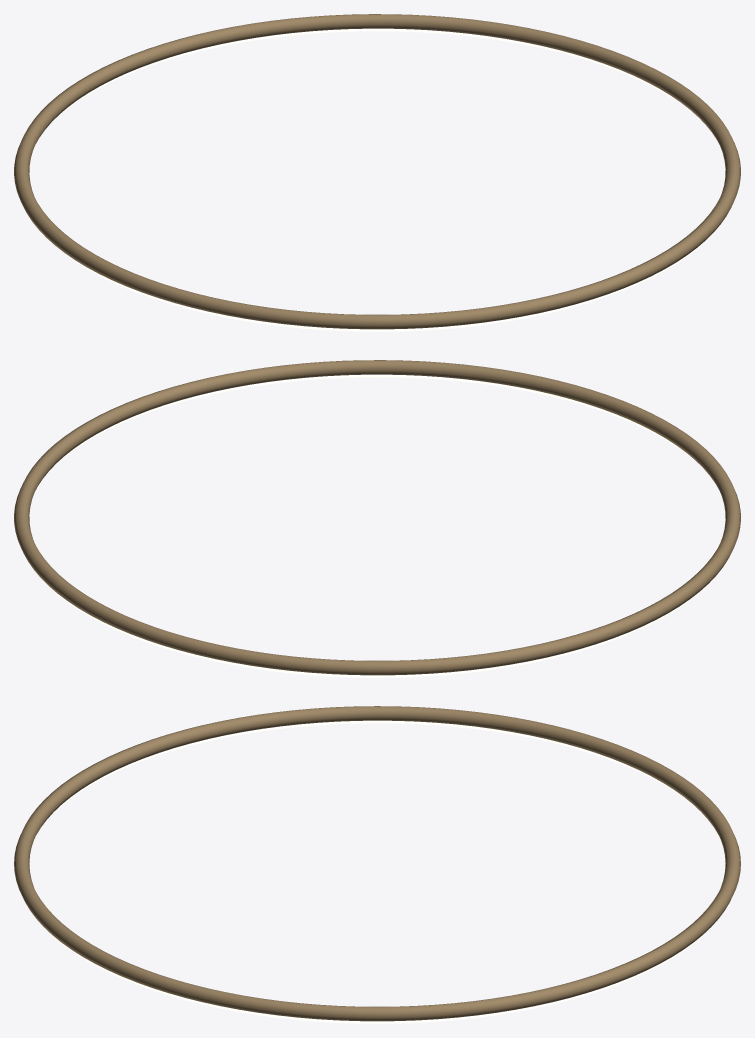
The model's file is source.glb.
The picture shows the model from 3 angles, top to bottom: view 1: azimuth 30°, elevation 25°; view 2: azimuth 150°, elevation 25°; view 3: azimuth 270°, elevation 25°; orthographic projection.
Visible parts, largest first — view 1: Concept housing, Emitters; view 2: Concept housing, Emitters; view 3: Concept housing, Emitters.
Boxes of the visible parts, x1,y1,x2,y2 form: Concept housing: [14, 14, 740, 329]; Emitters: [43, 28, 711, 331]; Concept housing: [14, 360, 740, 675]; Emitters: [43, 374, 711, 677]; Concept housing: [14, 706, 740, 1021]; Emitters: [45, 720, 709, 1023].
Size of the model in its own units: 4.7 by 0.119 by 4.7.
